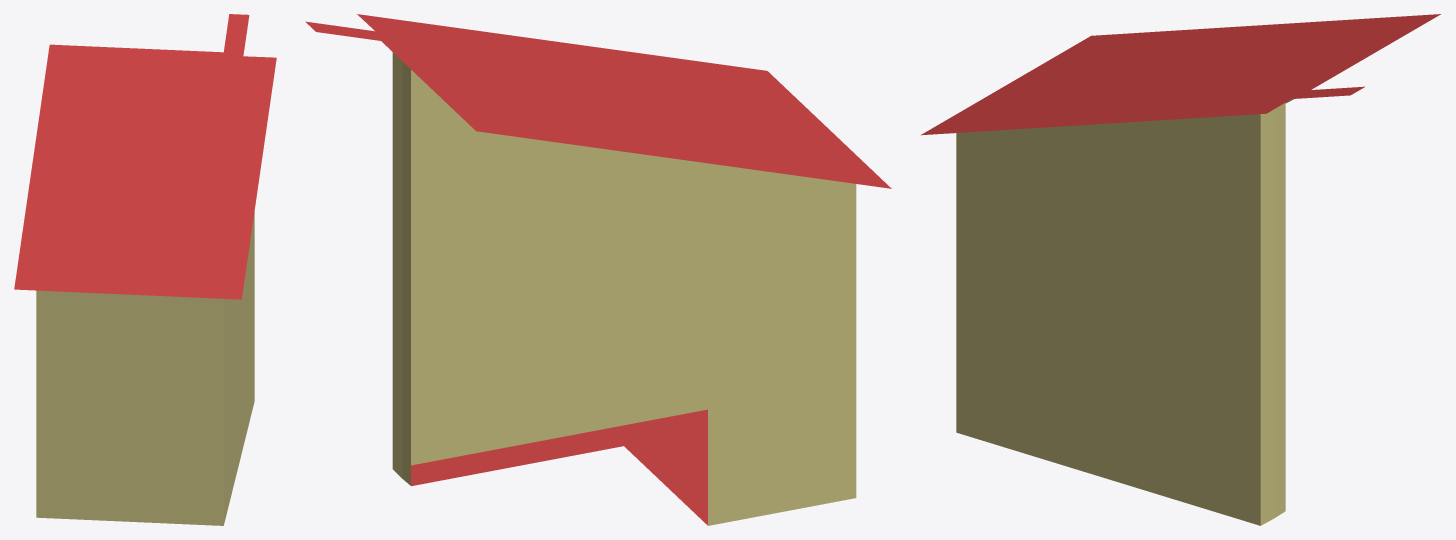
3 renders of one model, left to right at view 1: azimuth 30°, elevation 25°; view 2: azimuth 150°, elevation 25°; view 3: azimuth 270°, elevation 25°, orthographic. The views are drawn at different scales.
Size of the model in its own units: 9.62 by 10.13 by 9.64.
